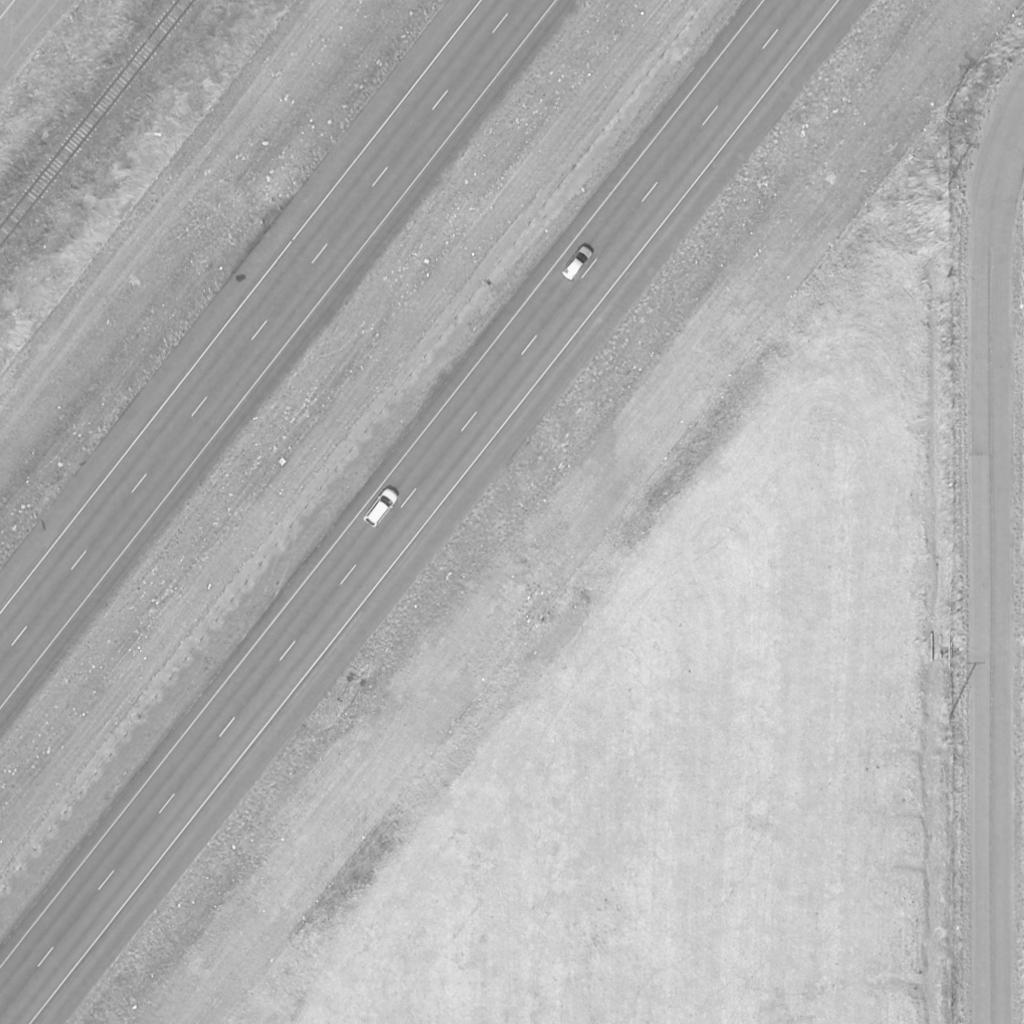vehicle: (363, 488, 399, 530), (561, 246, 593, 282)
